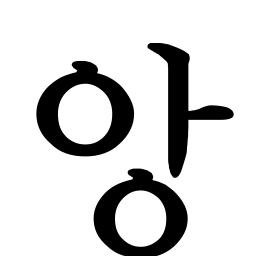Gaji: (154, 91, 210, 142)
